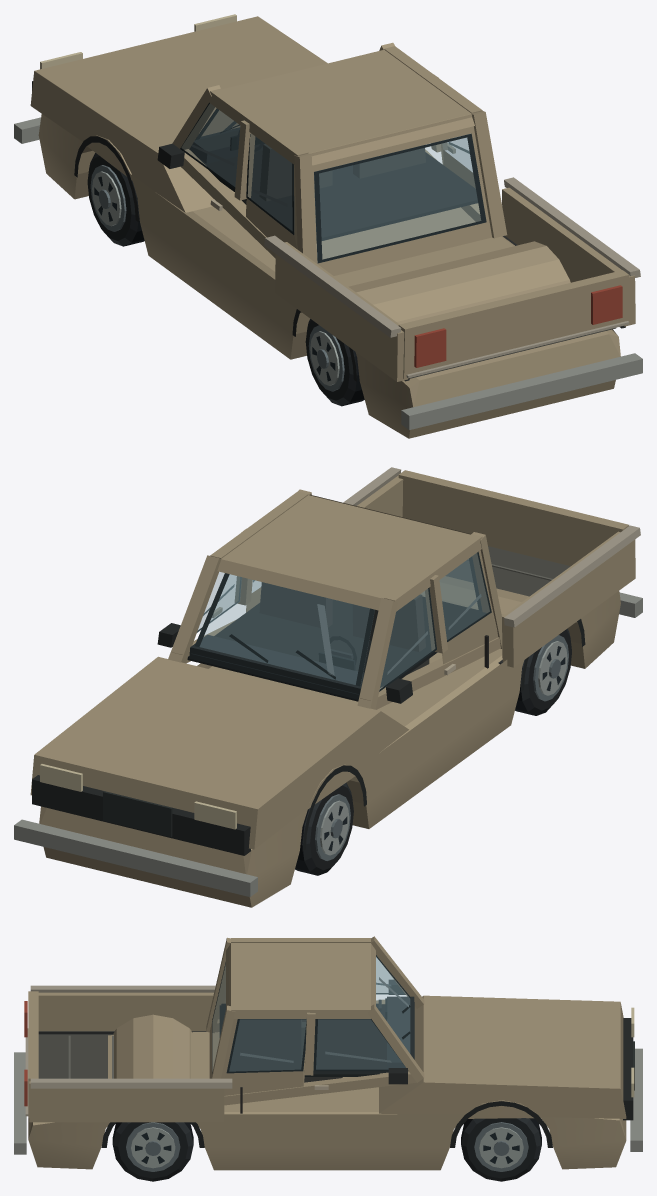
The model's file is pickup_creme.glb.
3 views of the same model, one above another, from view 1: azimuth 30°, elevation 25°; view 2: azimuth 150°, elevation 25°; view 3: azimuth 270°, elevation 25° (orthographic). The views are drawn at different scales.
Visible parts, largest first — view 1: proposition_pickup_creme; view 2: proposition_pickup_creme; view 3: proposition_pickup_creme.
Part boxes in pixels (x1=…): proposition_pickup_creme: x1=14, y1=14, x2=642, y2=438; proposition_pickup_creme: x1=14, y1=467, x2=642, y2=907; proposition_pickup_creme: x1=14, y1=936, x2=642, y2=1181.
Size of the model in its own units: 2.01 by 1.61 by 5.49.
